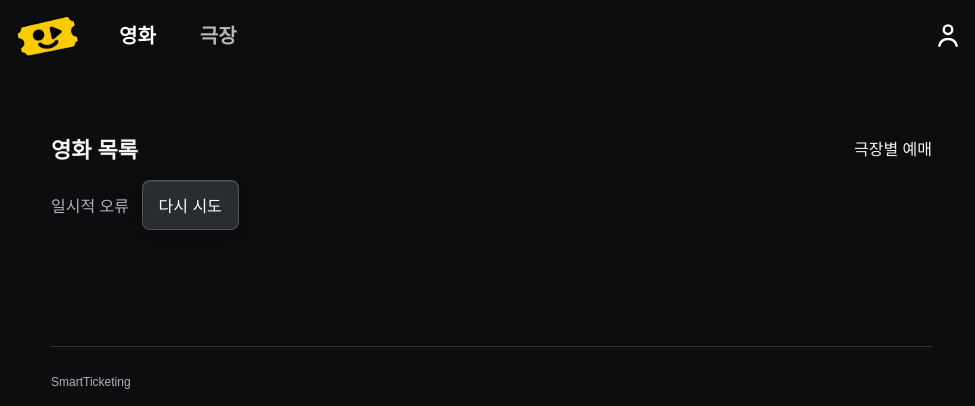
Test: loading, error, retry and empty states stay distinct
Expected: the message "일시적 오류 다시 시도" is shown, [51,180,239,230]
Click the button "다시 시도" at (190, 205), box [142,180,239,230]
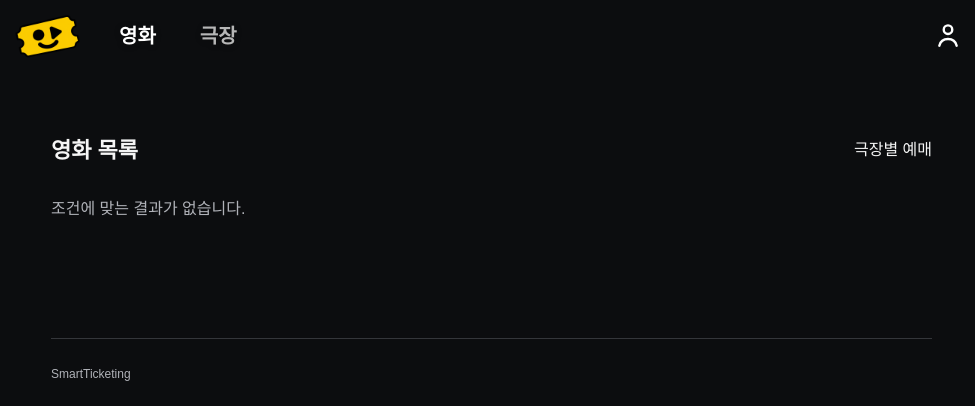
Expected: the text "조건에 맞는 결과가 없습니다." is shown, [51,200,245,217]
